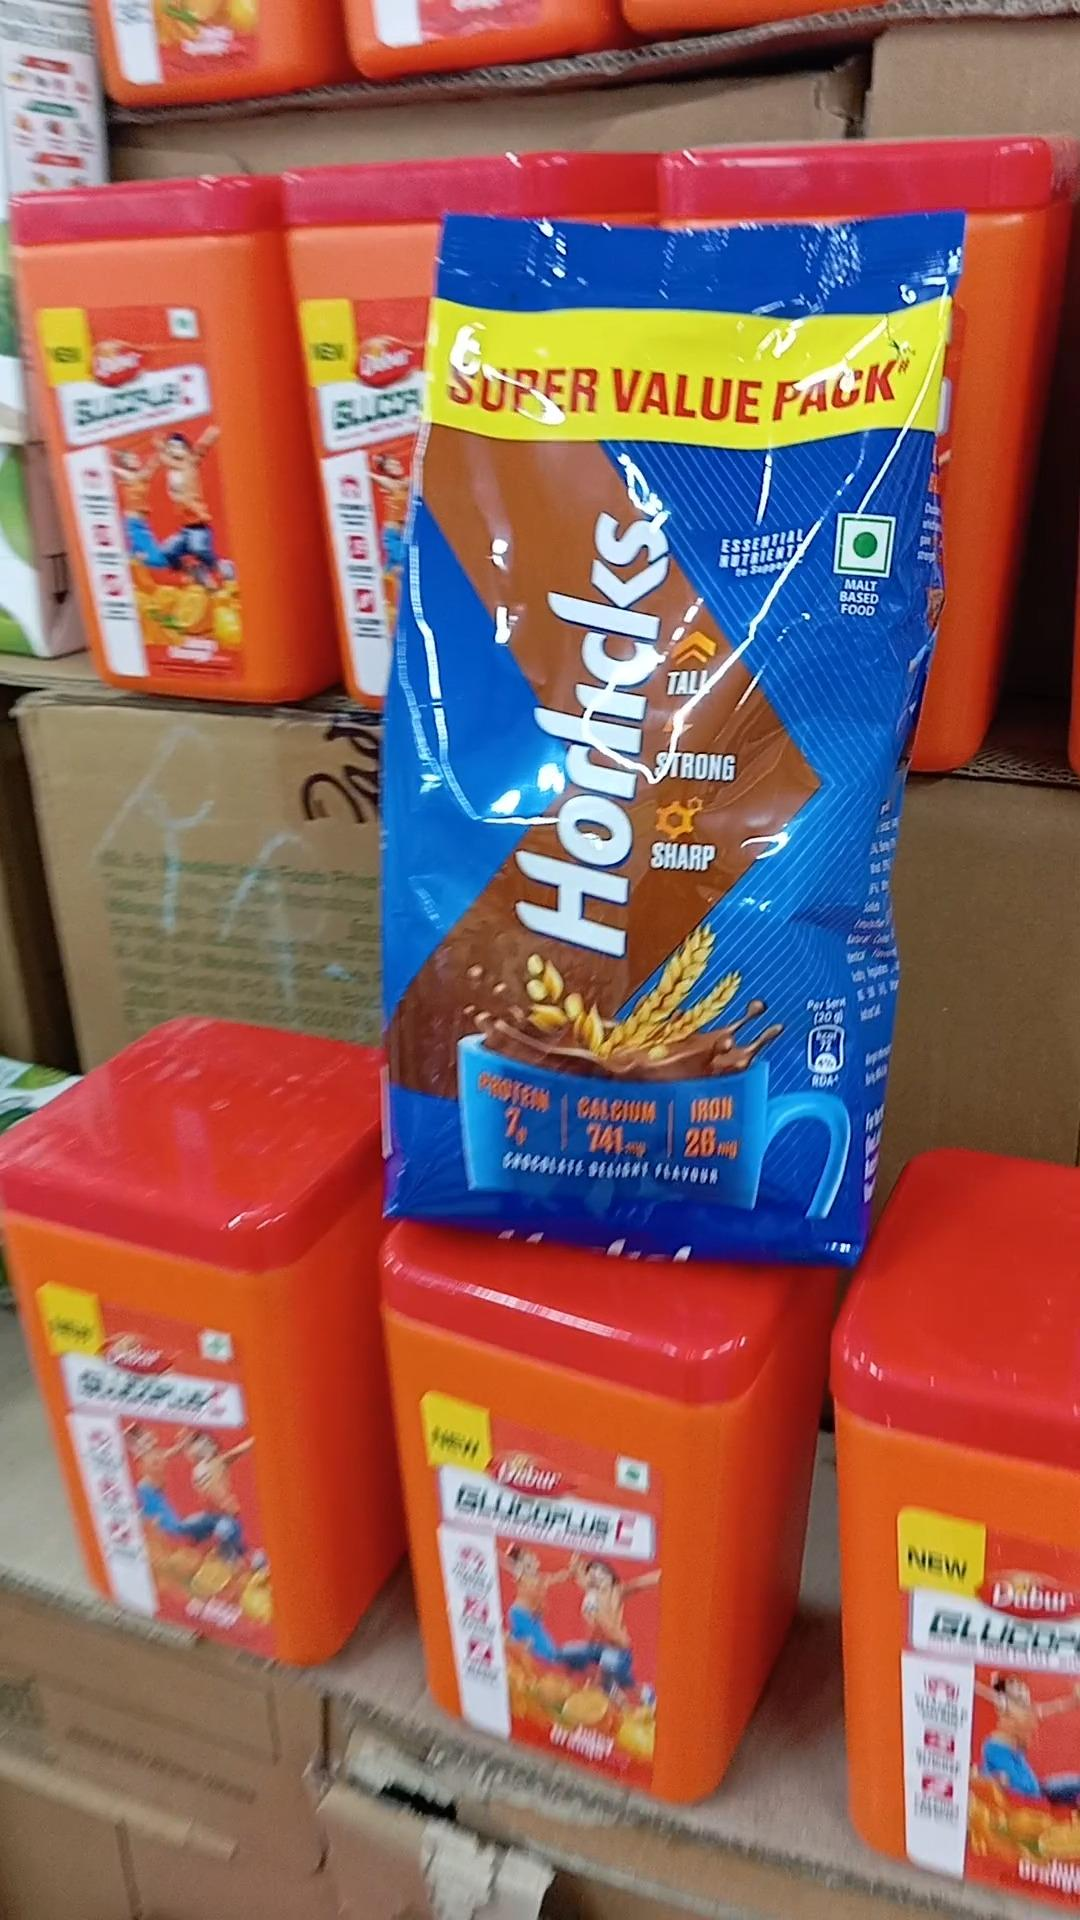HORLICK_CHOCOLATE_750_G_POUCH: (415, 229, 860, 1280)
